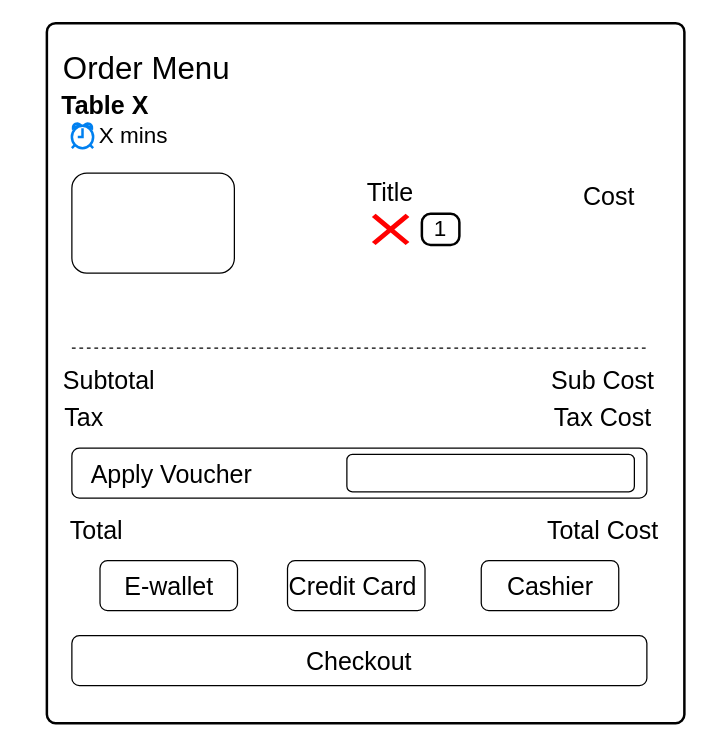
This 706x745 diagram has some shape labels left out. The shapes that lost their labels are listed below. From the top down, each one's centre as x and y in pixels, then its label:
At point 152,222: "Image Food/Drink".
At point 490,472: "Find Promo".
